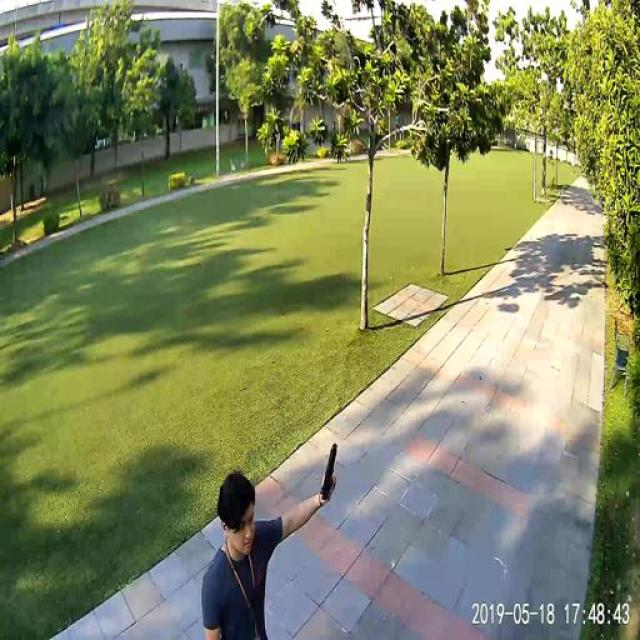senjata_api: (318, 441, 339, 502)
